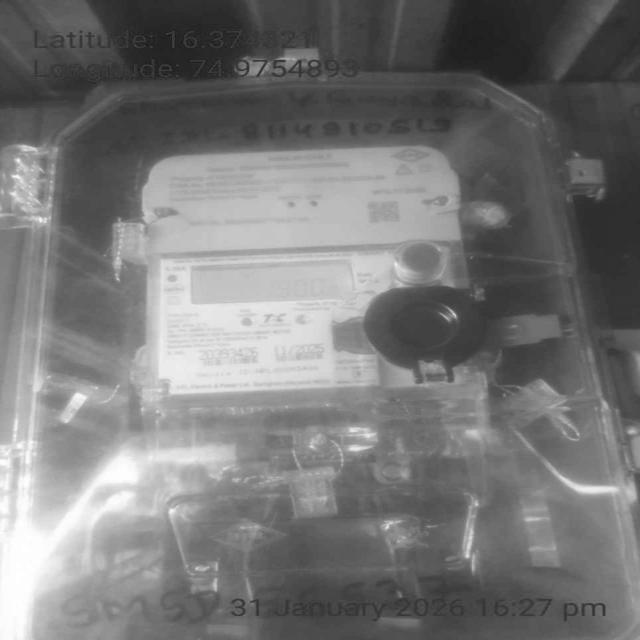meter: (137, 148, 461, 397)
